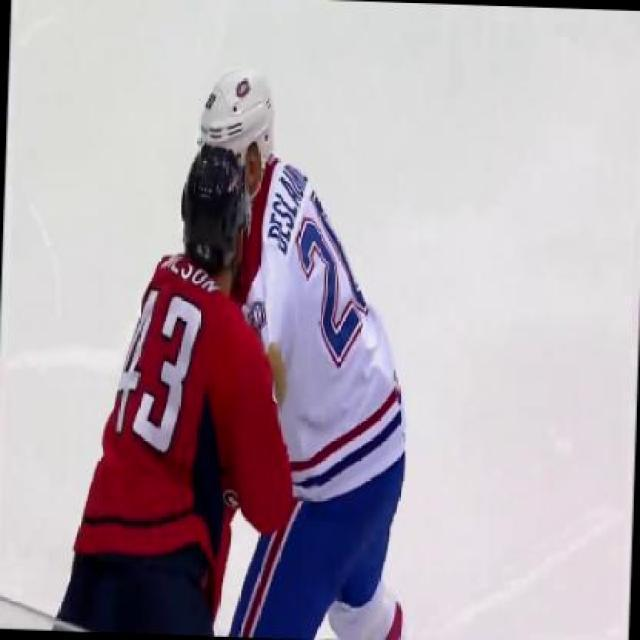fight: (64, 57, 421, 608)
